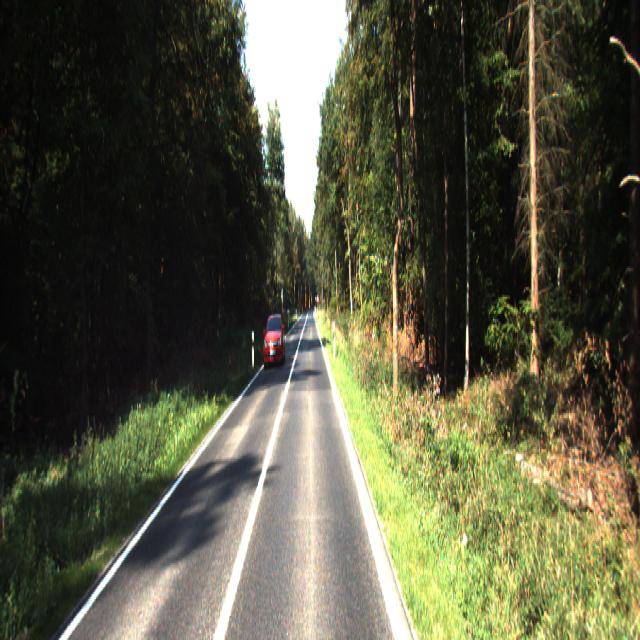Car: (263, 313, 286, 369)
